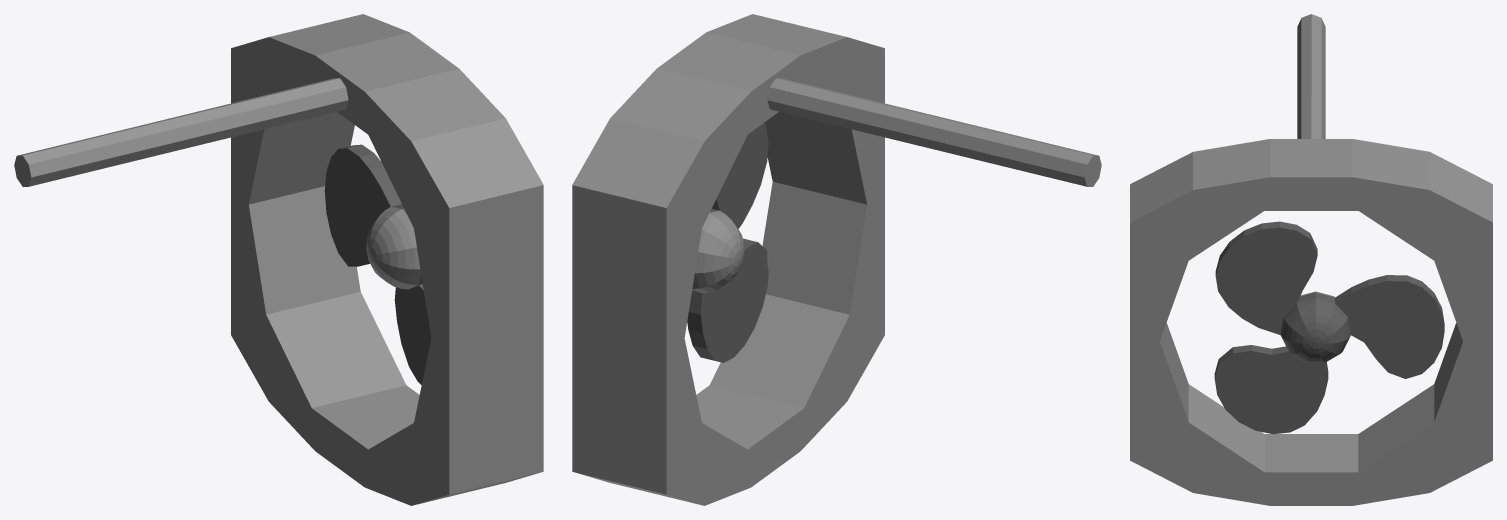
The model's file is fan.obj.
3 renders of one model, left to right at view 1: azimuth 30°, elevation 25°; view 2: azimuth 150°, elevation 25°; view 3: azimuth 270°, elevation 25°, orthographic. The views are drawn at different scales.
Visible parts, largest first — view 1: fan_Cylinder.002_Cylinder.009; view 2: fan_Cylinder.002_Cylinder.009; view 3: fan_Cylinder.002_Cylinder.009.
Part boxes in pixels (x1,y1,x2,y2): fan_Cylinder.002_Cylinder.009: (14,14,543,505); fan_Cylinder.002_Cylinder.009: (572,14,1101,505); fan_Cylinder.002_Cylinder.009: (1130,14,1492,505).
Bounding box in the file's own units: 1.13 × 1 × 1.
